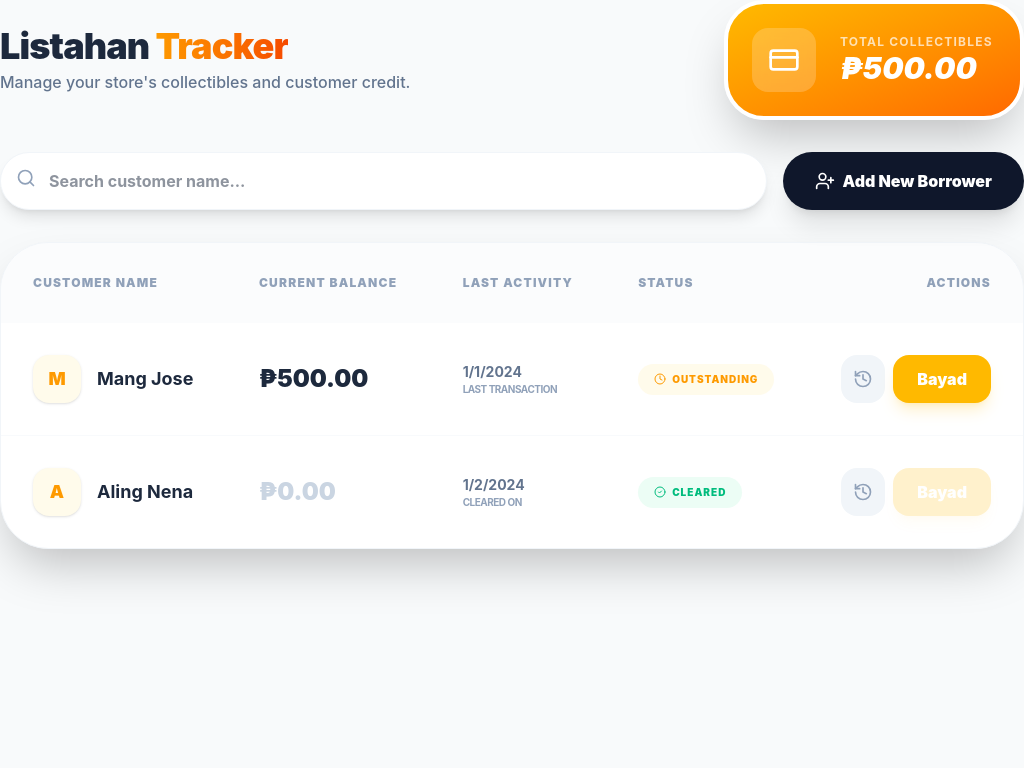
Listahan Component › shows history modal and switches tabs
Click the button named "View history" in the row of "Mang Jose" at [863, 379], box [841, 355, 885, 403]
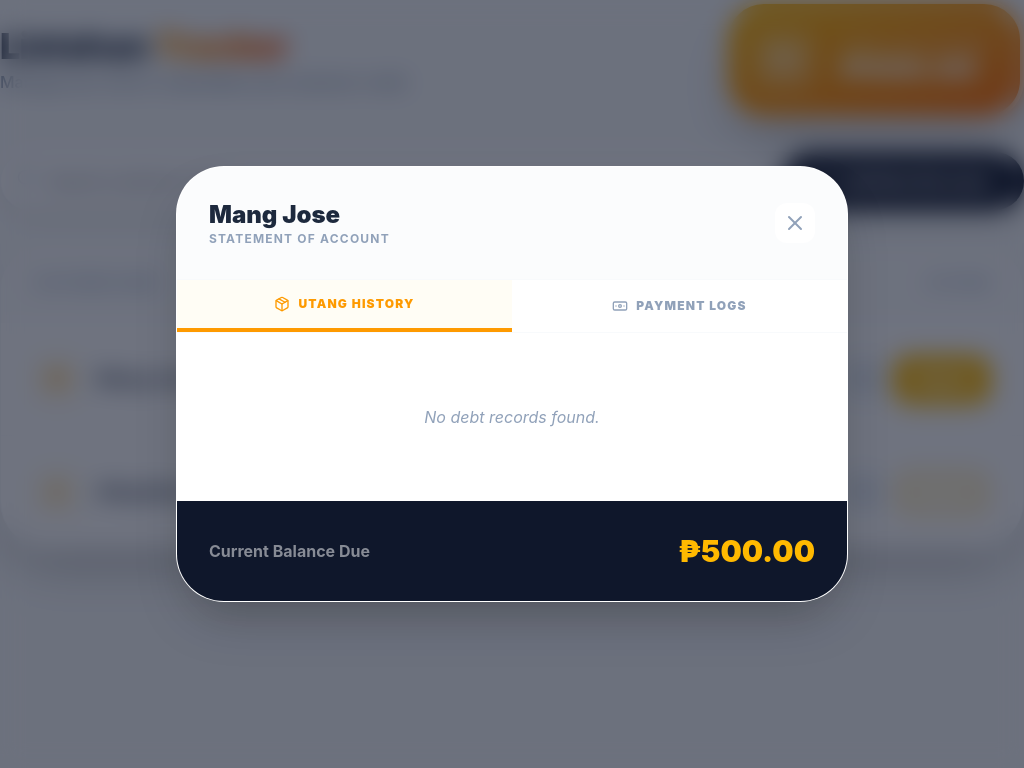
Result: the text "Statement of Account" is shown at [209, 231, 390, 247]
Result: the button "Utang History" is shown at [177, 280, 512, 332]
Result: the button "Payment Logs" is shown
# Switch to Payment Logs
Click the button "Payment Logs" at [680, 306], box [512, 280, 847, 332]
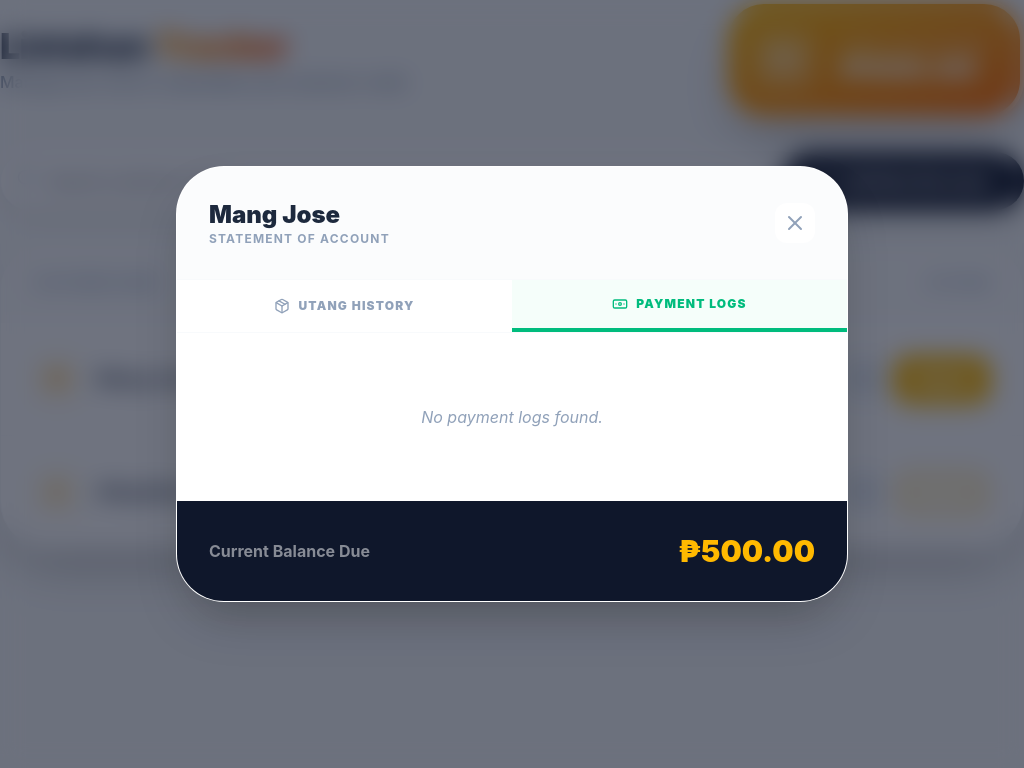
Result: the text "No payment logs found." is shown at [421, 407, 603, 427]
